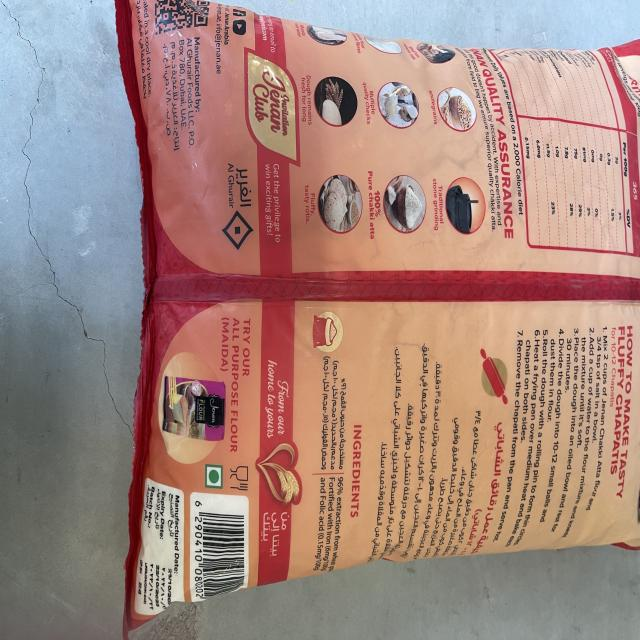object_name: (123, 6, 640, 596)
